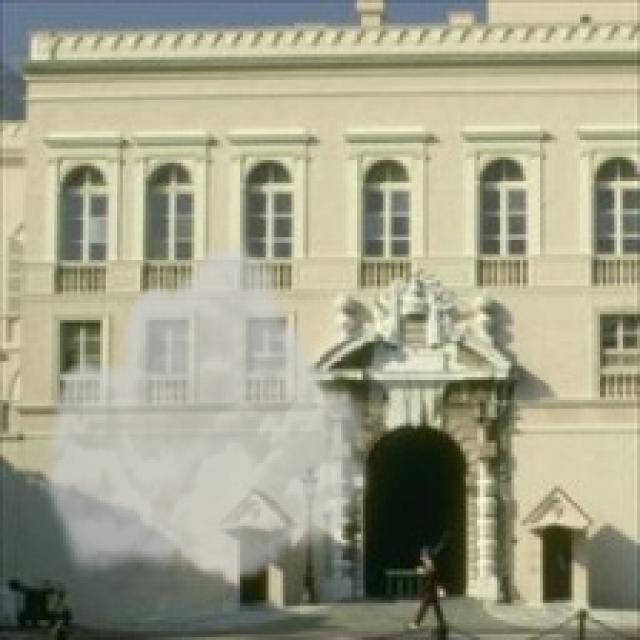smoke: (37, 234, 380, 586)
